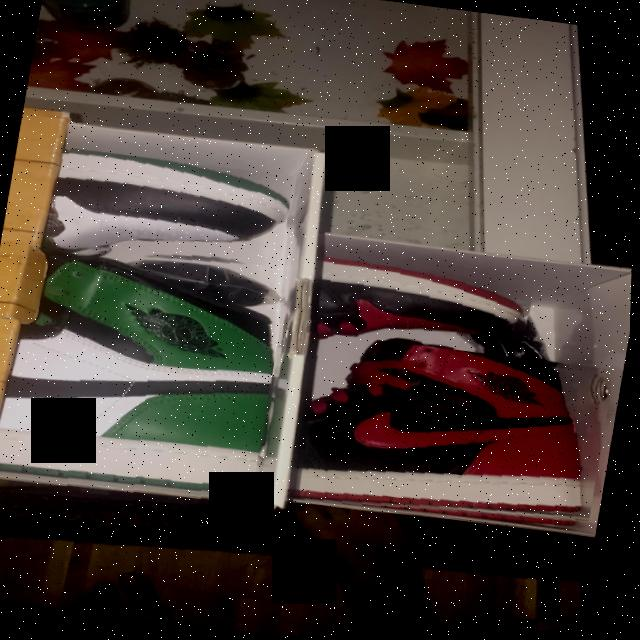shoe: (24, 261, 289, 522), (293, 331, 618, 542), (43, 145, 297, 282), (306, 247, 539, 362)
